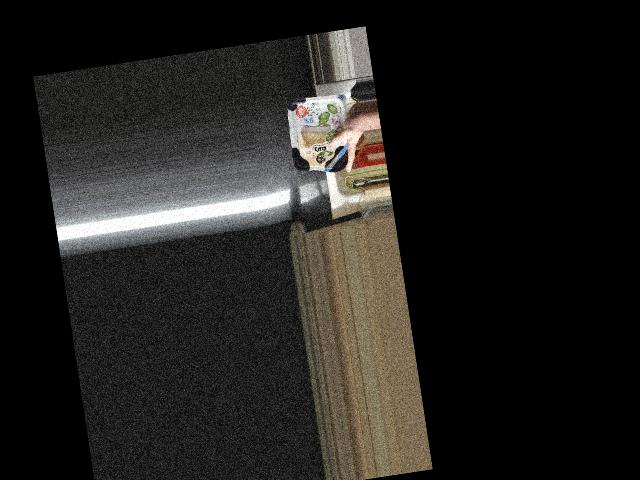cheese: (285, 94, 355, 178)
